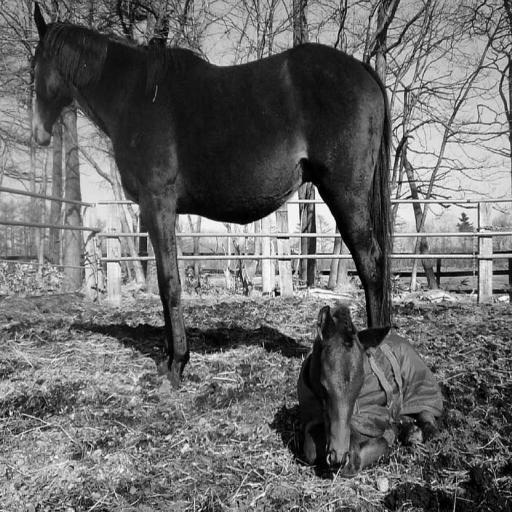horse: (29, 0, 394, 390)
